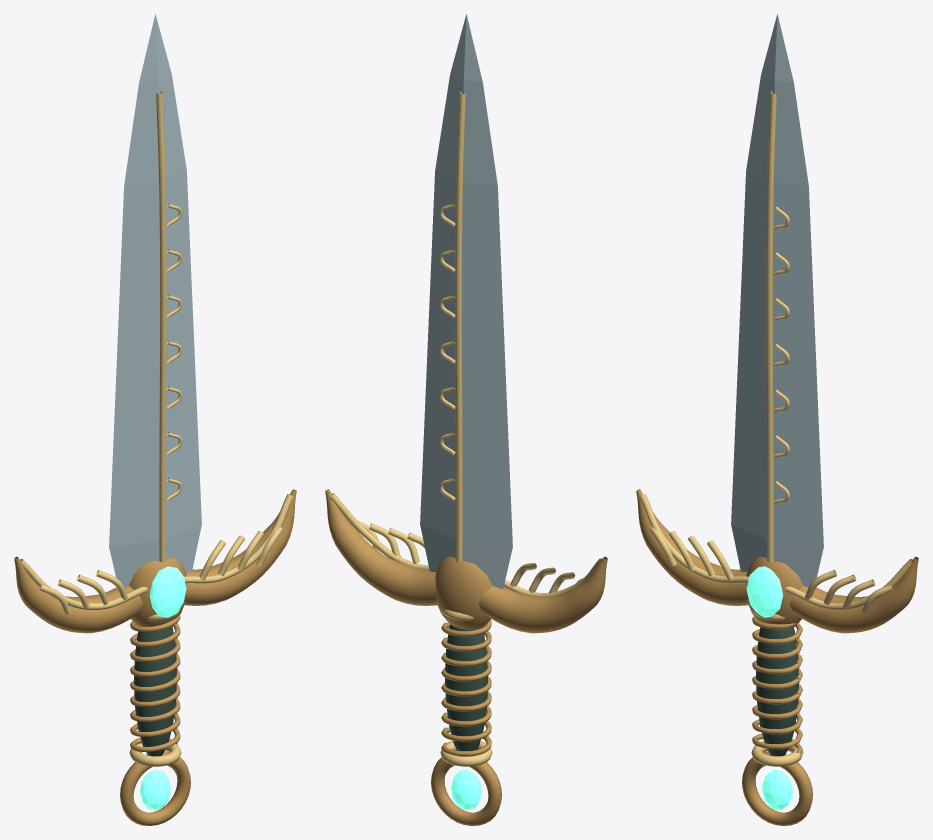
Rendered from Sword.fbx.
3 renders of one model, left to right at view 1: azimuth 30°, elevation 25°; view 2: azimuth 150°, elevation 25°; view 3: azimuth 330°, elevation 25°, orthographic.
Visible parts, largest first — view 1: Forged diamond blade_export, Leafwing quillon_export, Inlaid gold fuller_export, Leather grip_export, Leafwing quillon.001_export, Crescent pommel_export, Emerald heart_export, Guard socket_export, Pommel stone_export, Guard raised rim.001_export, Guard raised rim_export, Grip ferrule_export; view 2: Forged diamond blade_export, Leafwing quillon_export, Leafwing quillon.001_export, Inlaid gold fuller.001_export, Leather grip_export, Guard socket_export, Crescent pommel_export, Pommel stone_export, Guard raised rim.001_export, Grip ferrule_export, Guard raised rim_export; view 3: Forged diamond blade_export, Leafwing quillon.001_export, Inlaid gold fuller_export, Leather grip_export, Leafwing quillon_export, Crescent pommel_export, Emerald heart_export, Guard socket_export, Pommel stone_export, Guard raised rim_export, Guard raised rim.001_export, Grip ferrule_export.
Part boxes in pixels (bbox=[...]): Forged diamond blade_export: bbox=[109, 14, 201, 587]; Leafwing quillon_export: bbox=[14, 556, 143, 633]; Inlaid gold fuller_export: bbox=[156, 91, 166, 562]; Leather grip_export: bbox=[134, 626, 176, 756]; Leafwing quillon.001_export: bbox=[184, 489, 296, 605]; Crescent pommel_export: bbox=[120, 751, 190, 825]; Emerald heart_export: bbox=[149, 566, 186, 617]; Guard socket_export: bbox=[129, 558, 186, 626]; Pommel stone_export: bbox=[140, 770, 170, 809]; Guard raised rim.001_export: bbox=[184, 494, 293, 583]; Guard raised rim_export: bbox=[20, 559, 147, 609]; Grip ferrule_export: bbox=[129, 743, 181, 766]; Forged diamond blade_export: bbox=[420, 14, 512, 589]; Leafwing quillon_export: bbox=[478, 556, 607, 633]; Leafwing quillon.001_export: bbox=[325, 489, 437, 605]; Inlaid gold fuller.001_export: bbox=[455, 91, 465, 562]; Leather grip_export: bbox=[445, 624, 487, 750]; Guard socket_export: bbox=[435, 556, 492, 629]; Crescent pommel_export: bbox=[431, 757, 501, 825]; Pommel stone_export: bbox=[451, 770, 481, 809]; Guard raised rim.001_export: bbox=[330, 493, 429, 569]; Grip ferrule_export: bbox=[440, 741, 492, 766]; Guard raised rim_export: bbox=[504, 558, 601, 596]; Forged diamond blade_export: bbox=[731, 14, 823, 587]; Leafwing quillon.001_export: bbox=[789, 556, 918, 633]; Inlaid gold fuller_export: bbox=[766, 91, 776, 562]; Leather grip_export: bbox=[756, 627, 798, 756]; Leafwing quillon_export: bbox=[636, 489, 748, 605]; Crescent pommel_export: bbox=[742, 751, 812, 825]; Emerald heart_export: bbox=[746, 566, 783, 617]; Guard socket_export: bbox=[746, 556, 803, 629]; Pommel stone_export: bbox=[762, 770, 792, 809]; Guard raised rim_export: bbox=[639, 494, 748, 583]; Guard raised rim.001_export: bbox=[785, 559, 912, 609]; Grip ferrule_export: bbox=[751, 741, 803, 766].
Size of the model in its own units: 206 by 568 by 39.
